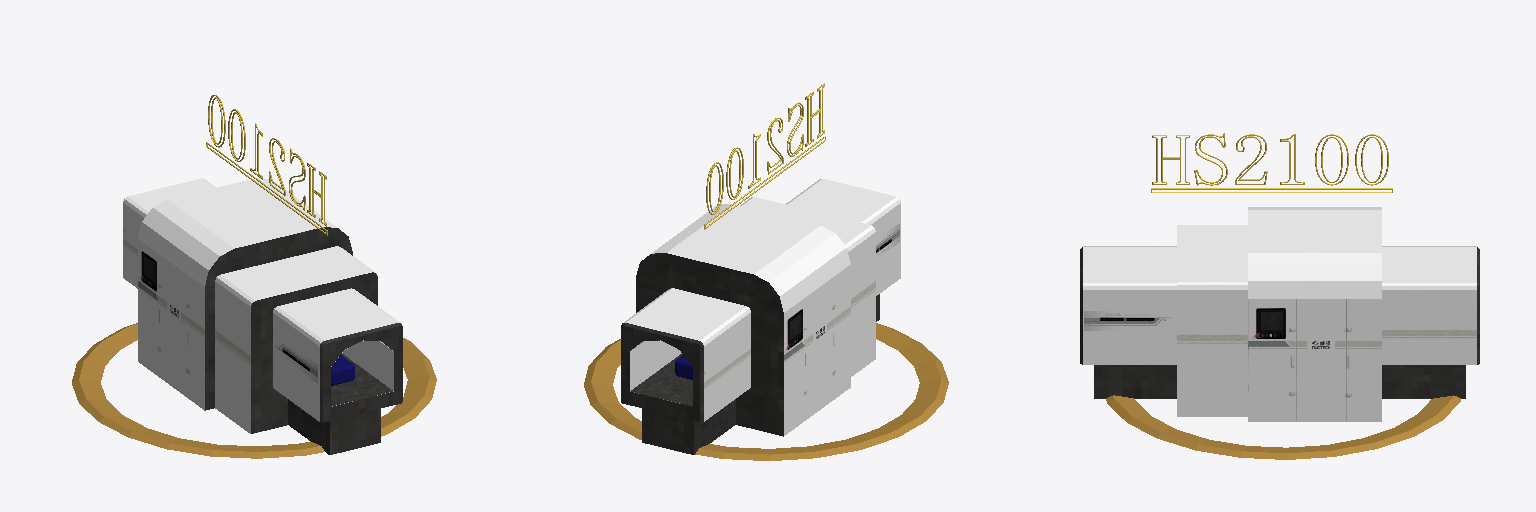
3 renders of one model, left to right at view 1: azimuth 30°, elevation 25°; view 2: azimuth 150°, elevation 25°; view 3: azimuth 270°, elevation 25°, orthographic.
Visible parts, largest first — view 1: shell, statusLamp, 004, Text001, 009; view 2: shell, statusLamp, 004, Text001; view 3: shell, statusLamp, Text001.
Part boxes in pixels (left/top/right/bottom): shell: left=123, top=178, right=402, bottom=454; statusLamp: left=72, top=323, right=436, bottom=458; 004: left=331, top=340, right=393, bottom=406; Text001: left=206, top=95, right=327, bottom=235; 009: left=331, top=355, right=354, bottom=385; shell: left=621, top=179, right=900, bottom=454; statusLamp: left=584, top=323, right=948, bottom=460; 004: left=630, top=340, right=692, bottom=406; Text001: left=704, top=83, right=825, bottom=229; shell: left=1080, top=207, right=1479, bottom=421; statusLamp: left=1106, top=395, right=1460, bottom=459; Text001: left=1151, top=133, right=1392, bottom=192.
Size of the model in its own units: 455 by 348 by 497.
5 materials, 1 textured.